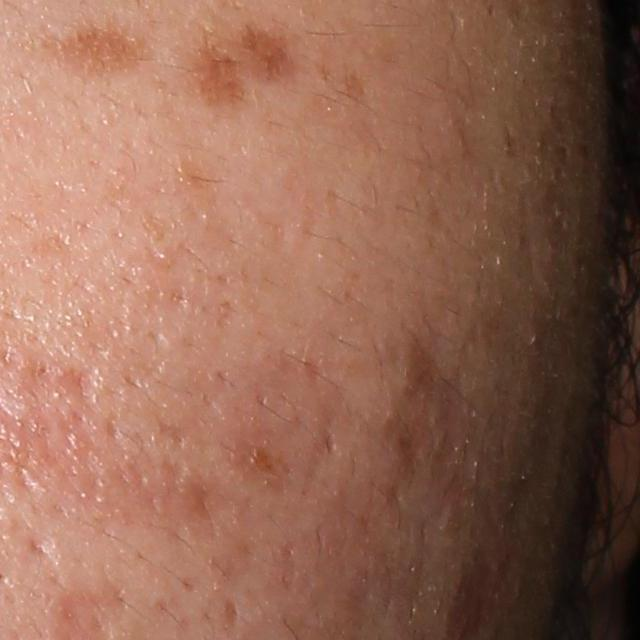melasma: (17, 150, 274, 335), (202, 22, 314, 120), (40, 22, 156, 82), (314, 64, 369, 104)
